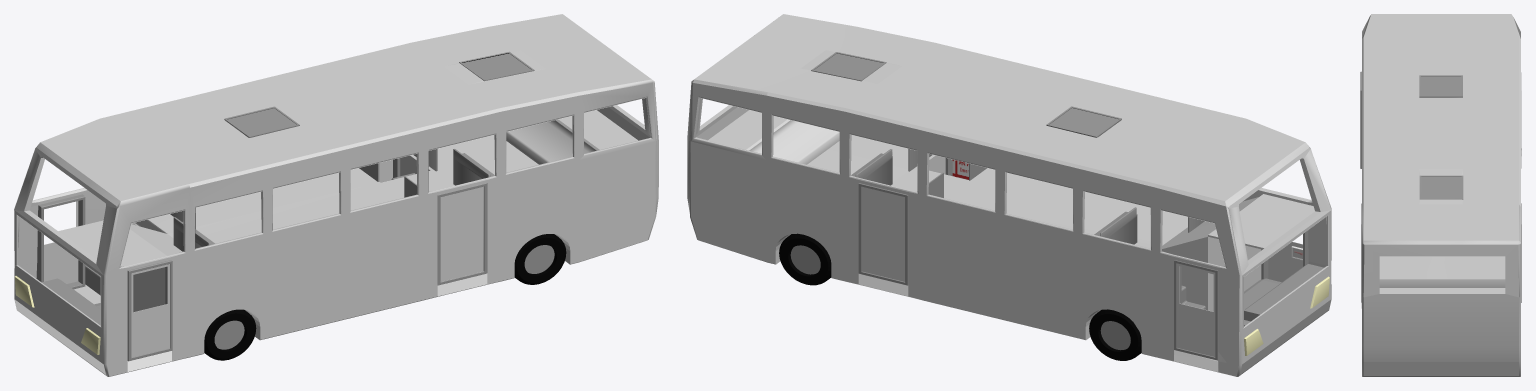
The model's file is BUS0530.fbx.
3 views of the same model, side by side, from view 1: azimuth 30°, elevation 25°; view 2: azimuth 150°, elevation 25°; view 3: azimuth 270°, elevation 25° (orthographic). The views are drawn at different scales.
Visible parts, largest first — view 1: busbody, left_back_door.001, left_front_door, right_front_door, ex_gate001, ex_gate, left_back_door; view 2: busbody, right_back_door, right_front_door, left_front_door, ex_gate001, ex_gate; view 3: busbody, ex_gate, ex_gate001, exit_gate, exit_gate001, left_front_door.
Part boxes in pixels (x1,y1,x2,y2): busbody: (14, 14, 658, 376); left_back_door.001: (440, 186, 483, 281); left_front_door: (127, 260, 172, 361); right_front_door: (36, 194, 85, 289); ex_gate001: (227, 108, 296, 135); ex_gate: (462, 53, 531, 79); left_back_door: (437, 183, 486, 285); busbody: (687, 14, 1331, 376); right_back_door: (858, 183, 908, 285); right_front_door: (1174, 260, 1218, 360); left_front_door: (1261, 230, 1308, 282); ex_gate001: (1050, 108, 1118, 135); ex_gate: (814, 53, 883, 79); busbody: (1361, 14, 1521, 376); ex_gate: (1421, 177, 1461, 198); ex_gate001: (1421, 76, 1461, 95); exit_gate: (1419, 175, 1463, 199); exit_gate001: (1419, 75, 1462, 97); left_front_door: (1360, 71, 1361, 168).
Bounding box in the file's own units: 4610 × 1490 × 1330.
